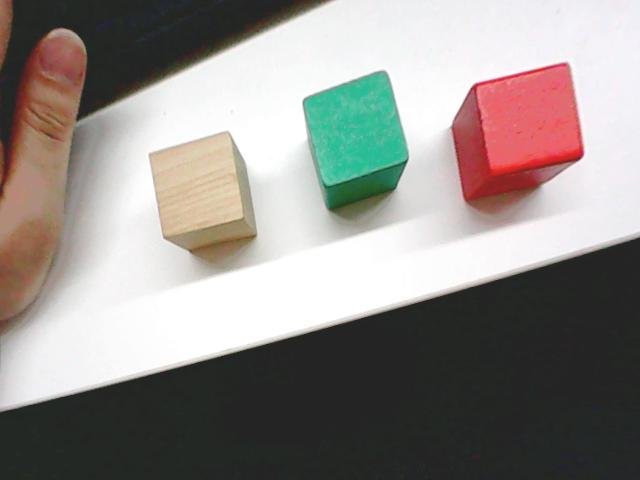green_box: (299, 66, 411, 211)
raw_box: (145, 127, 259, 254)
red_box: (448, 57, 587, 203)
